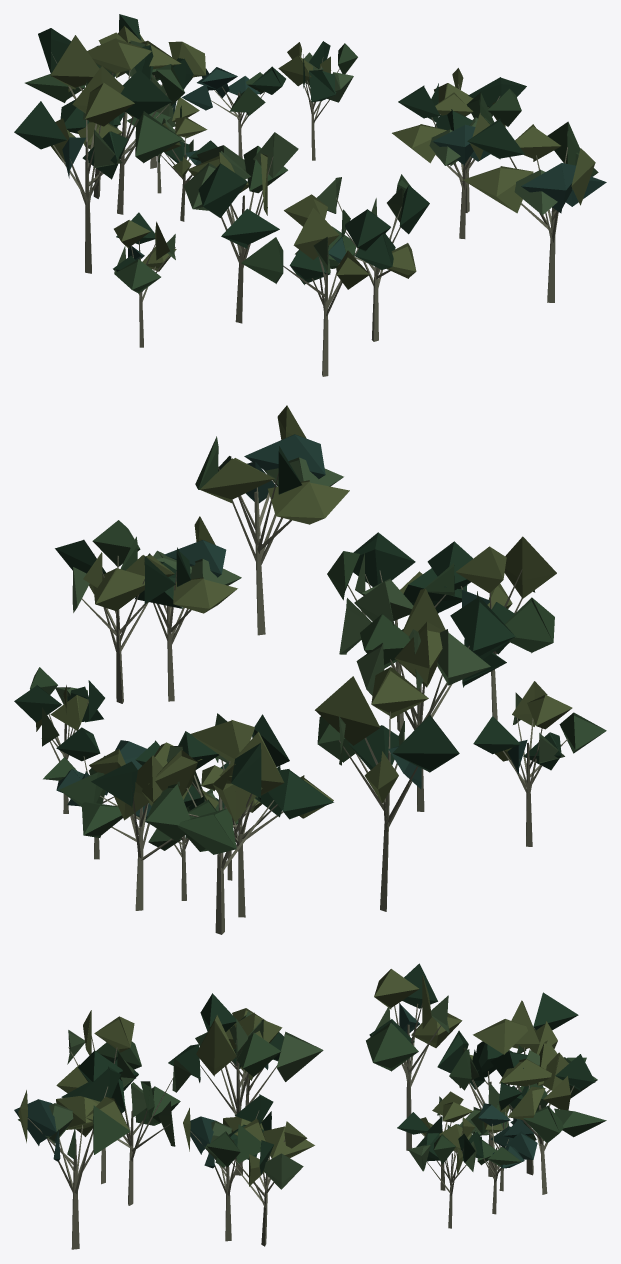
Rendered from forest_26_24.dae.
3 views of the same model, one above another, from view 1: azimuth 30°, elevation 25°; view 2: azimuth 150°, elevation 25°; view 3: azimuth 270°, elevation 25° (orthographic). The views are drawn at different scales.
Visible parts, largest first — view 1: Node; view 2: Node; view 3: Node.
Part boxes in pixels (left/top/right/bottom): Node: left=14, top=14, right=606, bottom=376; Node: left=14, top=405, right=606, bottom=934; Node: left=14, top=963, right=606, bottom=1249.
Size of the model in its own units: 7.64 by 9.76 by 3.63.
